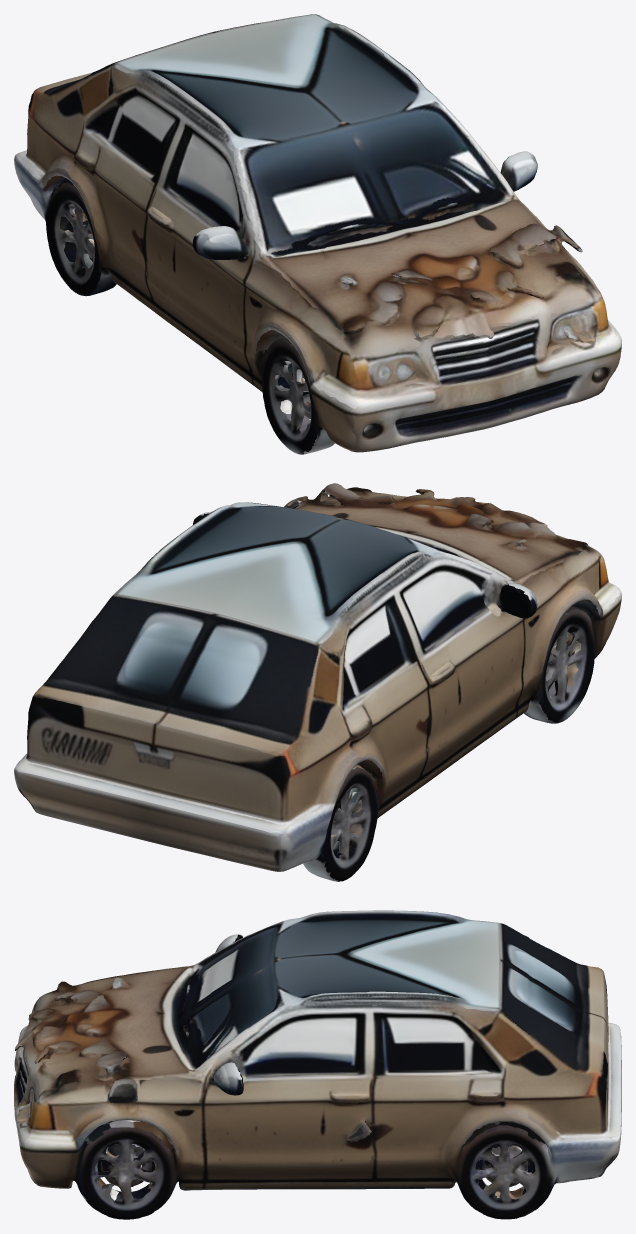
File: sedan_abandonado.glb
The picture shows the model from 3 angles, top to bottom: view 1: azimuth 30°, elevation 25°; view 2: azimuth 150°, elevation 25°; view 3: azimuth 270°, elevation 25°; orthographic projection. The views are drawn at different scales.
Parts seen in each view (by area): view 1: tmpdd2fstvj.ply; view 2: tmpdd2fstvj.ply; view 3: tmpdd2fstvj.ply.
Part boxes in pixels (x1,y1,x2,y2): tmpdd2fstvj.ply: [14, 14, 621, 454]; tmpdd2fstvj.ply: [14, 483, 621, 881]; tmpdd2fstvj.ply: [14, 910, 621, 1219].
Size of the model in its own units: 0.5621 by 0.3767 by 0.9884.
Materials: 1 (1 with a texture image).
